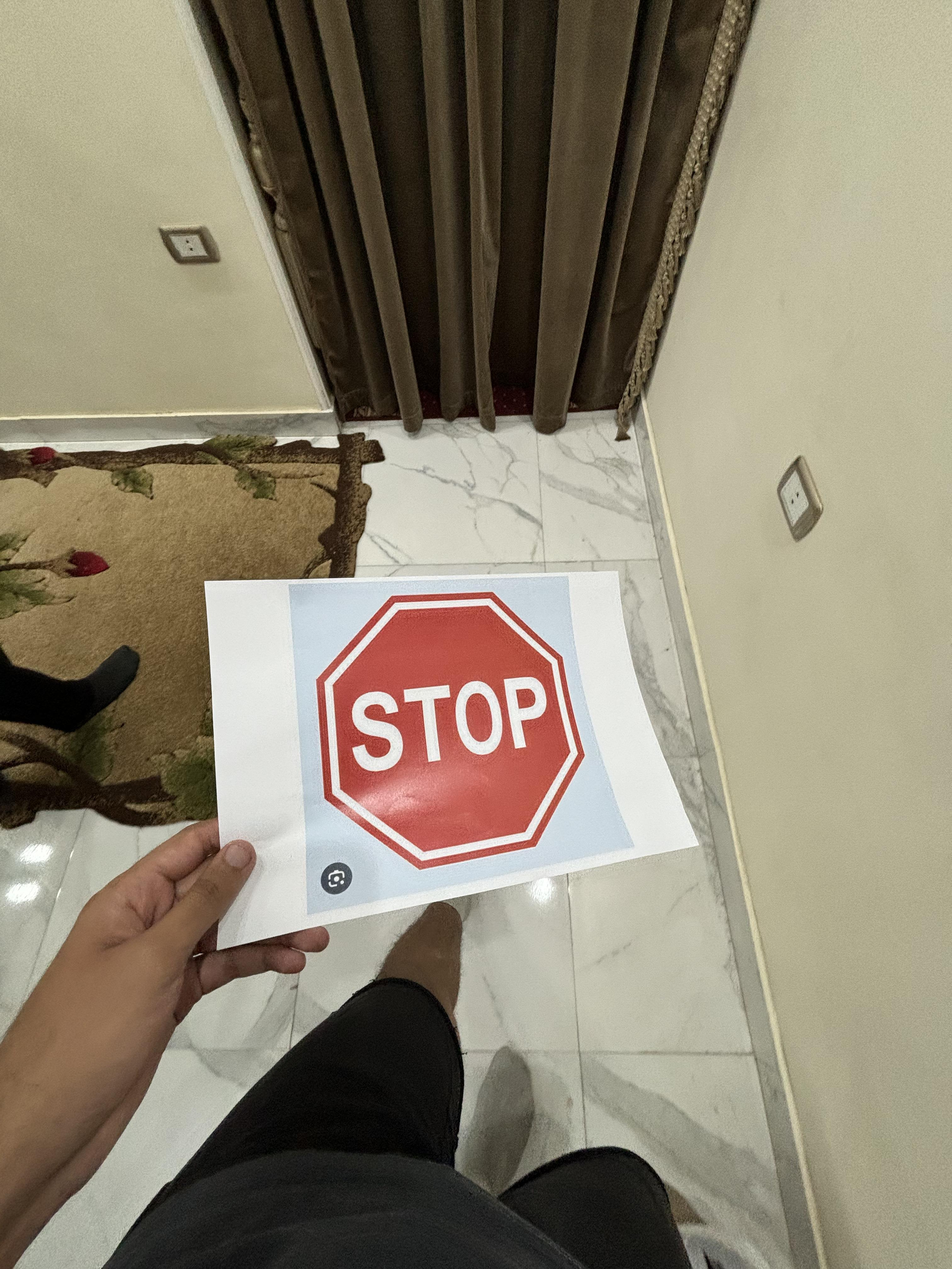Stop: (311, 580, 586, 875)
